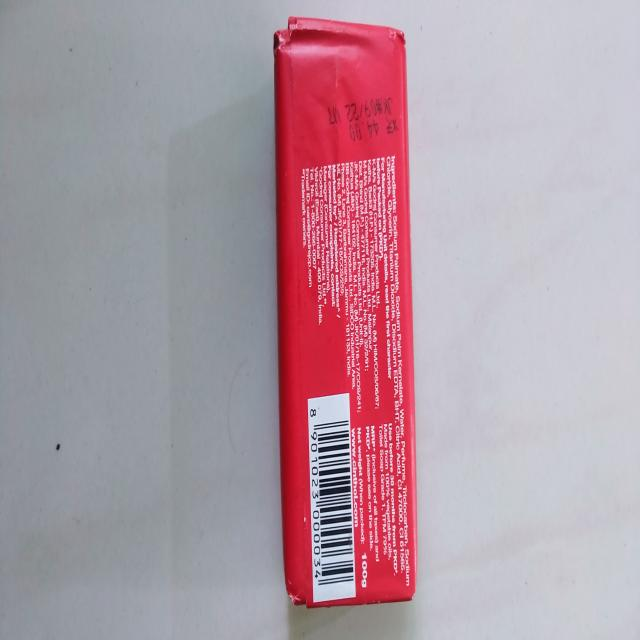soap: (268, 21, 420, 617)
